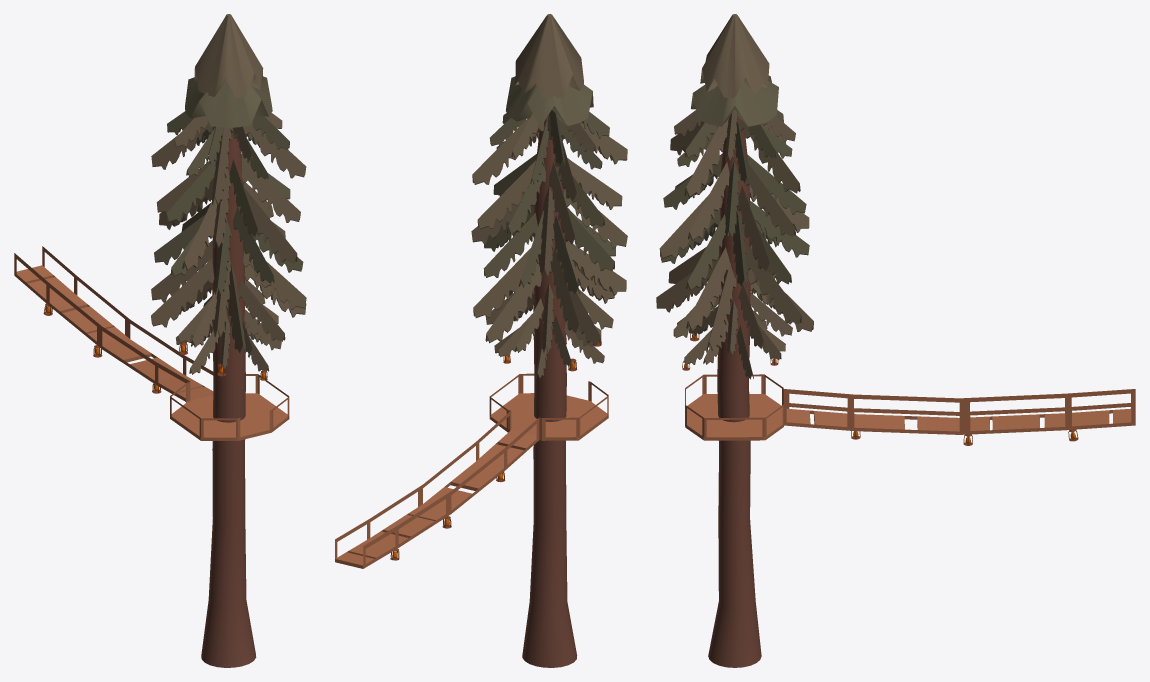
File: Tree_And_Bridge_Ver1.fbx
The picture shows the model from 3 angles, left to right: view 1: azimuth 30°, elevation 25°; view 2: azimuth 150°, elevation 25°; view 3: azimuth 270°, elevation 25°; orthographic projection.
Visible parts, largest first — view 1: Bridge_Tree, Bridge; view 2: Bridge_Tree, Bridge; view 3: Bridge_Tree, Bridge.
Boxes of the visible parts, x1=… form: Bridge_Tree: x1=151, y1=14, x2=306, y2=667; Bridge: x1=14, y1=246, x2=289, y2=440; Bridge_Tree: x1=471, y1=14, x2=627, y2=667; Bridge: x1=335, y1=373, x2=608, y2=568; Bridge_Tree: x1=656, y1=14, x2=813, y2=667; Bridge: x1=685, y1=374, x2=1135, y2=440.
Size of the model in its own units: 8.03 by 38.17 by 25.88.
